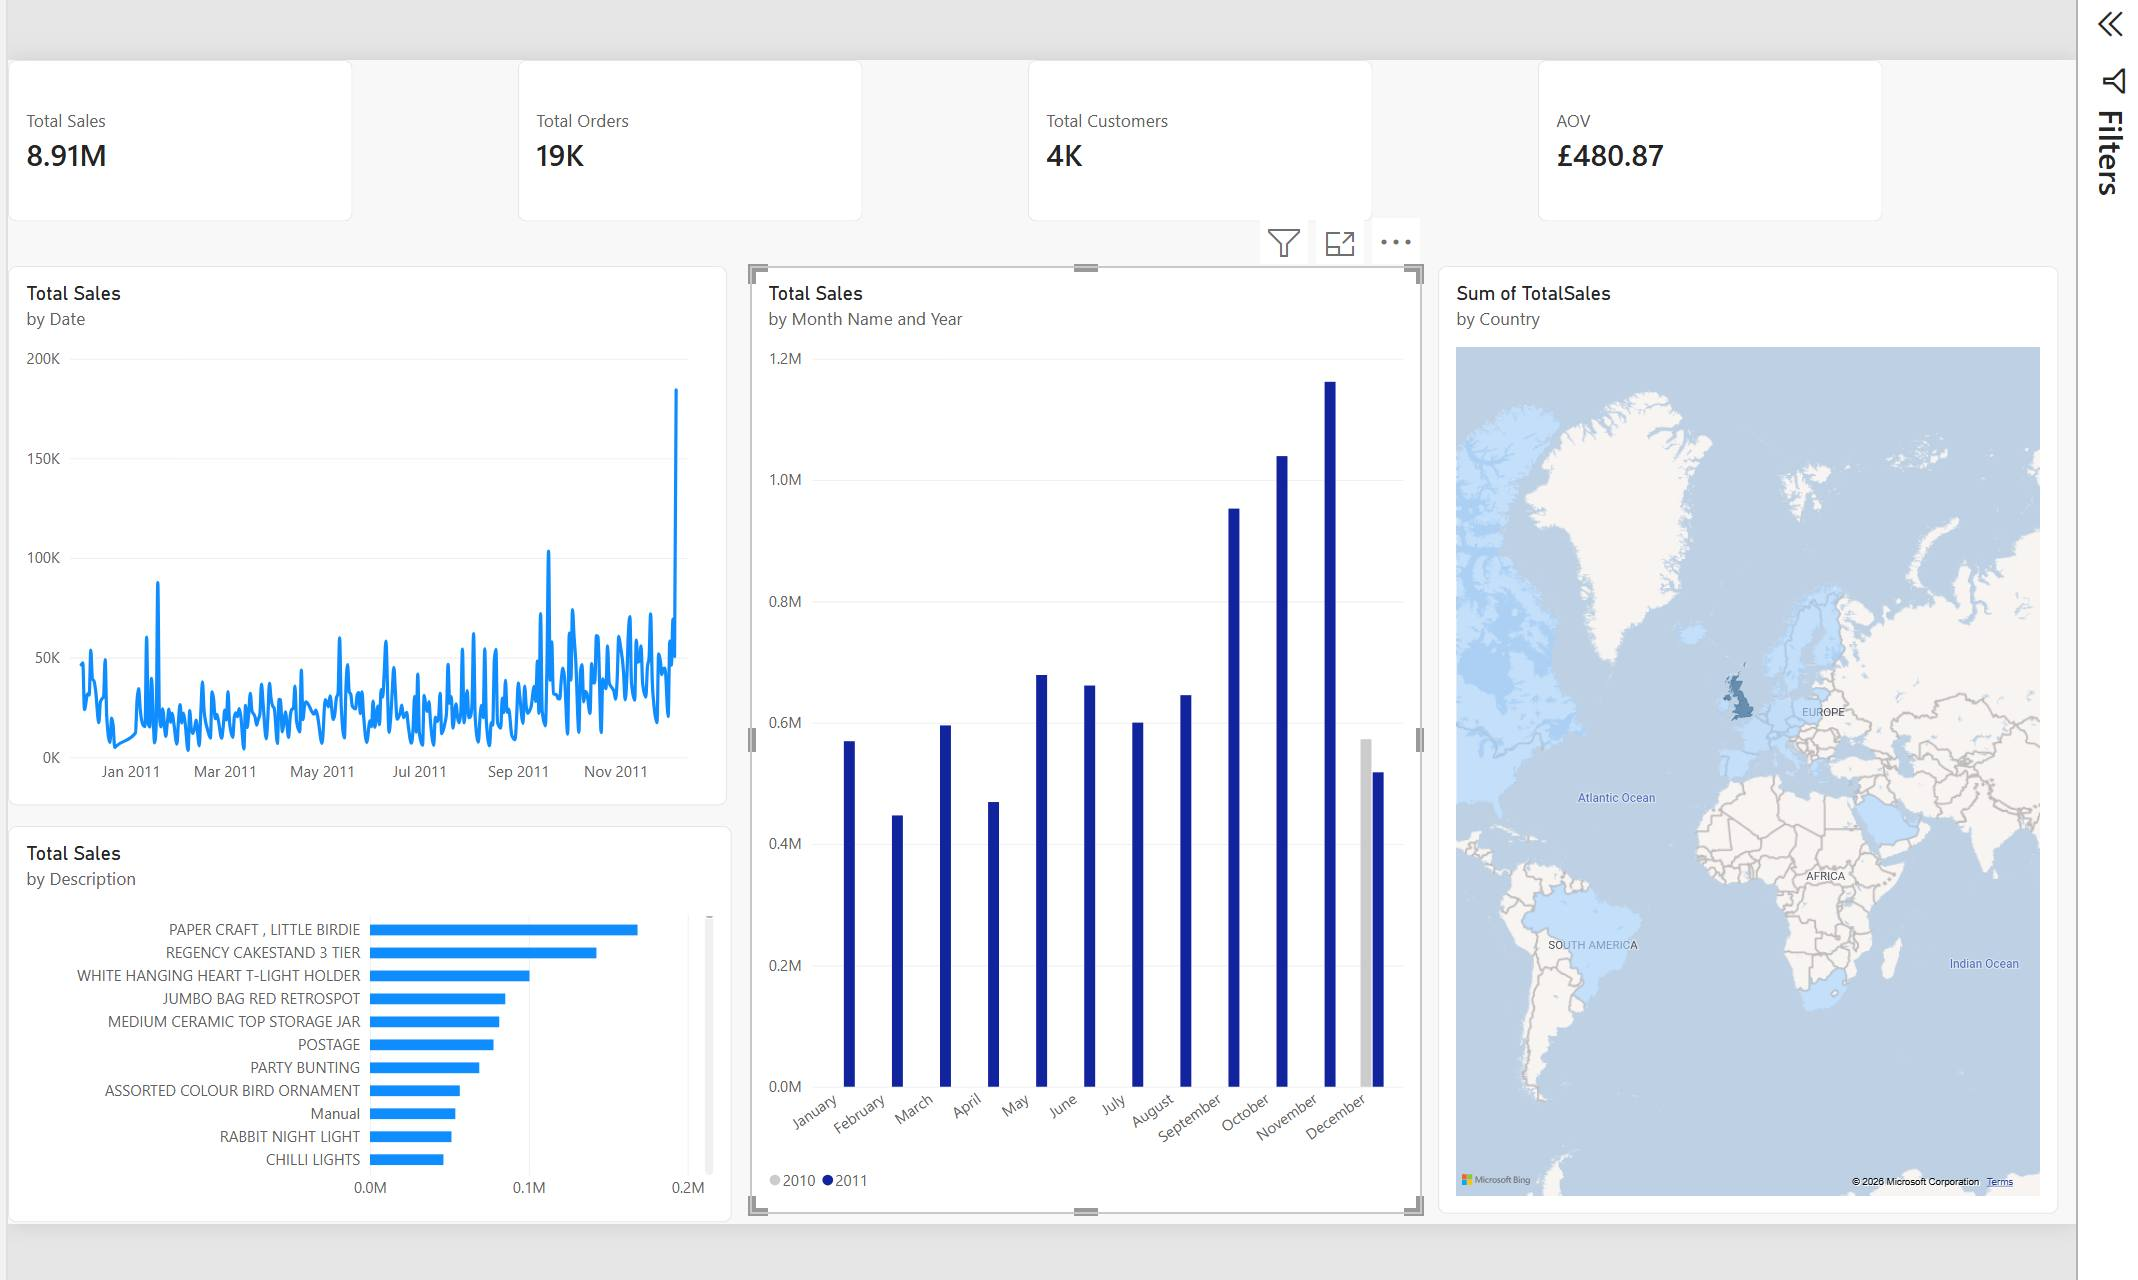

Layout of this report page (visuals, bound fields, positions):
{"tool":"powerbi","page":{"name":"Executive Overview'","canvas":[1920,1080],"ordinal":0},"visuals":[{"type":"cardVisual","fields":{"Data":["online_retail.Total Sales"]},"box":[0,0,320,150],"z":0},{"type":"cardVisual","fields":{"Data":["online_retail.Total Orders"]},"box":[473.7,0,320,150],"z":1000},{"type":"cardVisual","fields":{"Data":["online_retail.Total Customers"]},"box":[947.4,0,320,150],"z":2000},{"type":"cardVisual","fields":{"Data":["online_retail.AOV"]},"box":[1421.2,0,320,150],"z":3000},{"type":"lineChart","fields":{"Category":["DateDim.Date"],"Y":["online_retail.Total Sales"]},"box":[0,192,667.3,501.1],"z":4000},{"type":"clusteredColumnChart","fields":{"Category":["DateDim.Month Name"],"Series":["DateDim.Year"],"Y":["online_retail.Total Sales"]},"box":[688,192,624,880],"z":4001},{"type":"barChart","fields":{"Category":["online_retail.Description"],"Y":["online_retail.Total Sales"]},"box":[0,712,672,368],"z":4002},{"type":"filledMap","fields":{"Category":["online_retail.Country"]},"box":[1328,192,576,880],"z":4003}]}

Visuals, with their boxes on the page's 1920x1080 design canvas (x1, y1, x2, y2). These are canvas units, not pixel positions in the 2138x1280 screenshot, which may show the page scaled, cropped or inside an application window:
cardVisual - online_retail.Total Sales: 0,0,320,150
cardVisual - online_retail.Total Orders: 474,0,794,150
cardVisual - online_retail.Total Customers: 947,0,1267,150
cardVisual - online_retail.AOV: 1421,0,1741,150
lineChart - DateDim.Date x online_retail.Total Sales: 0,192,667,693
clusteredColumnChart - DateDim.Month Name x DateDim.Year: 688,192,1312,1072
barChart - online_retail.Description x online_retail.Total Sales: 0,712,672,1080
filledMap - online_retail.Country: 1328,192,1904,1072
